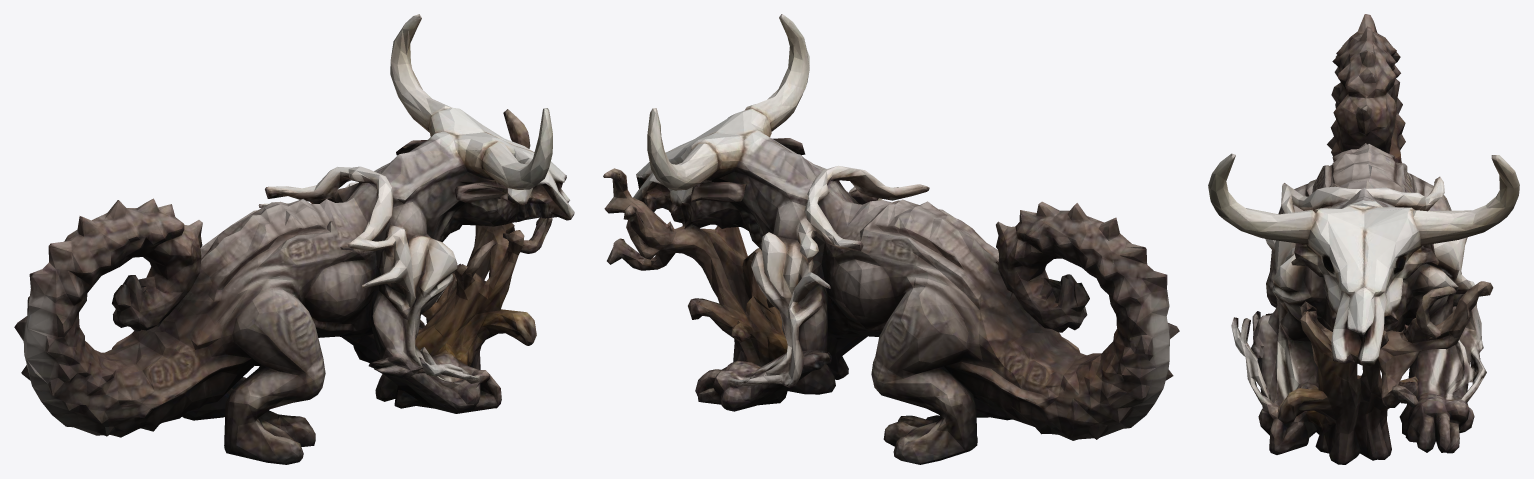
Rendered from rotfang__chargeWyrm.glb.
3 views of the same model, side by side, from view 1: azimuth 30°, elevation 25°; view 2: azimuth 150°, elevation 25°; view 3: azimuth 270°, elevation 25° (orthographic). The views are drawn at different scales.
Parts seen in each view (by area): view 1: world; view 2: world; view 3: world.
Boxes of the visible parts, <box> form: world: <box>14,14,574,464</box>; world: <box>603,14,1179,464</box>; world: <box>1208,14,1519,464</box>.
Size of the model in its own units: 1 by 0.5486 by 0.4867.
1 material, 1 textured.
